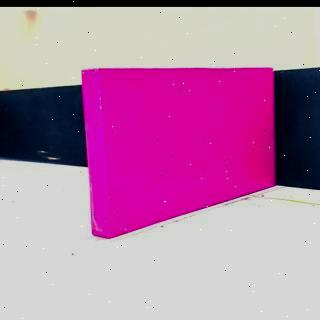xparking: (92, 72, 276, 217)
